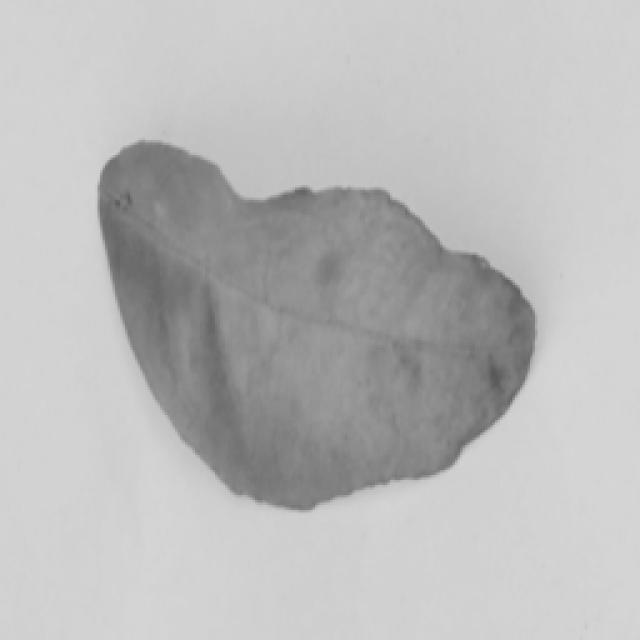greening: (89, 137, 556, 514)
